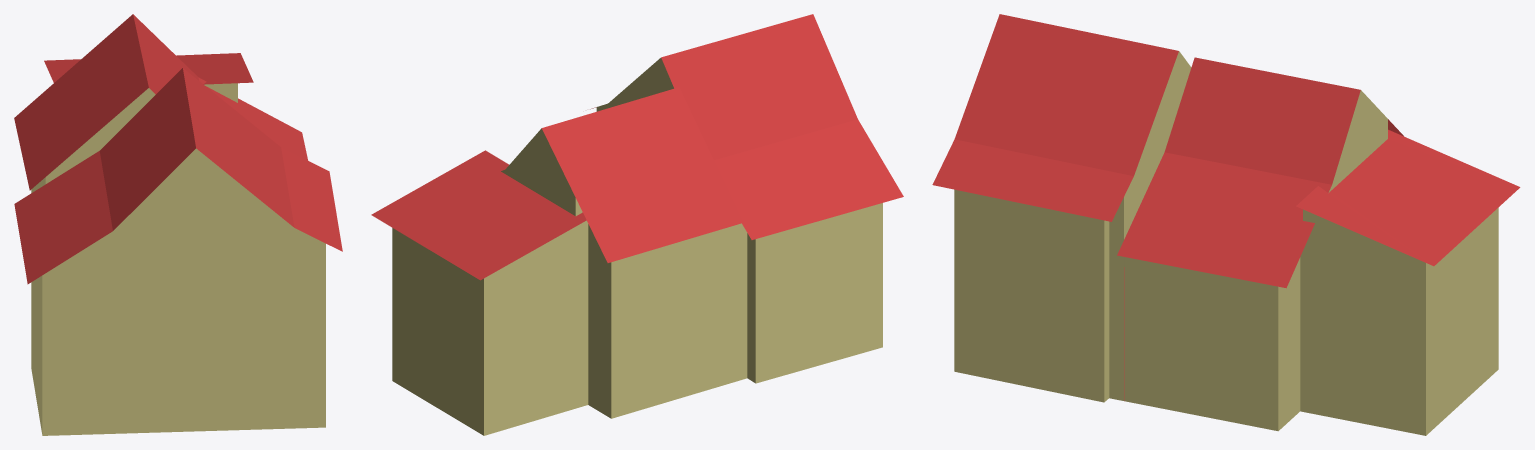
3 views of the same model, side by side, from view 1: azimuth 30°, elevation 25°; view 2: azimuth 150°, elevation 25°; view 3: azimuth 270°, elevation 25° (orthographic). The views are drawn at different scales.
Size of the model in its own units: 20.99 by 26.68 by 15.14.
